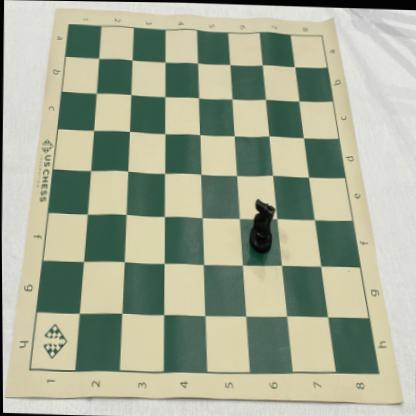black-knight: (248, 197, 274, 255)
